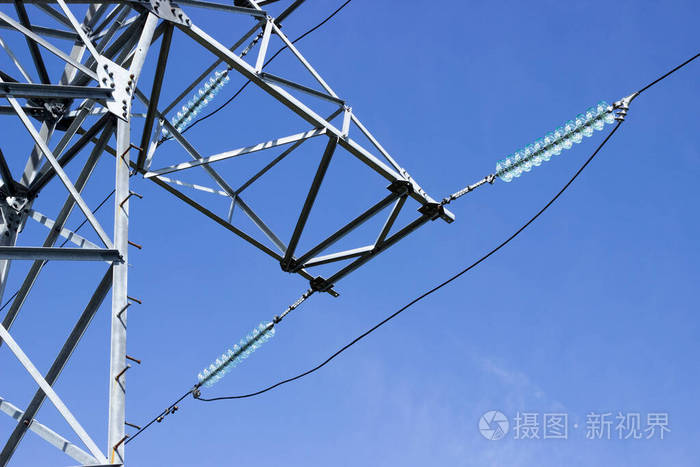insulator: (498, 101, 621, 181), (197, 320, 274, 390), (162, 69, 229, 137)
